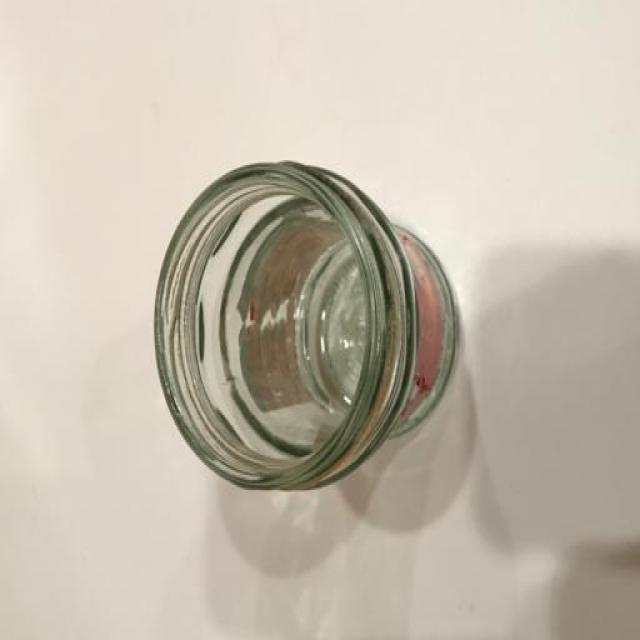Waste: (156, 162, 461, 491)
